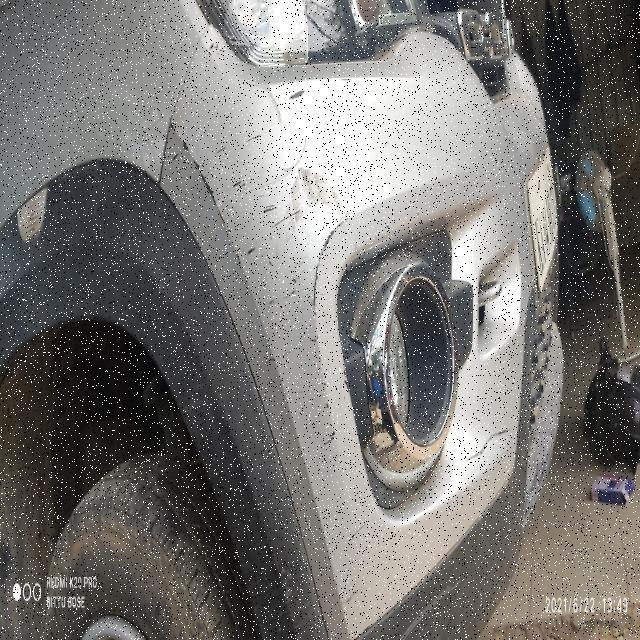front-bumper-dent: (170, 42, 510, 638)
